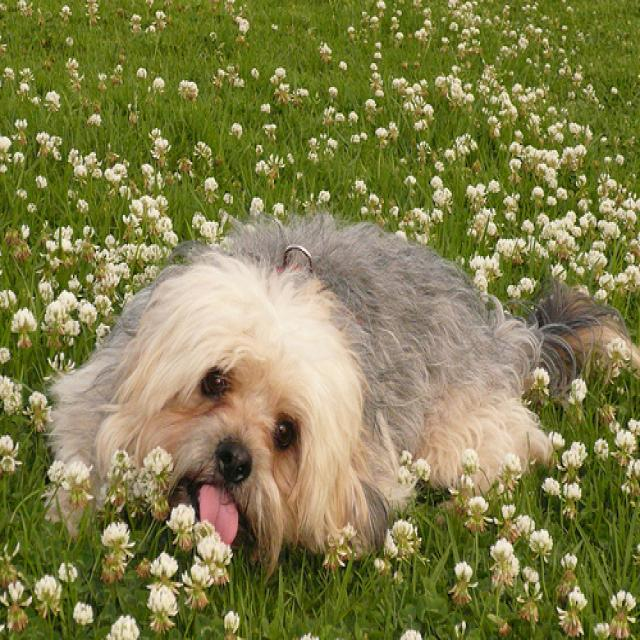dog-havanese: (42, 207, 637, 596)
